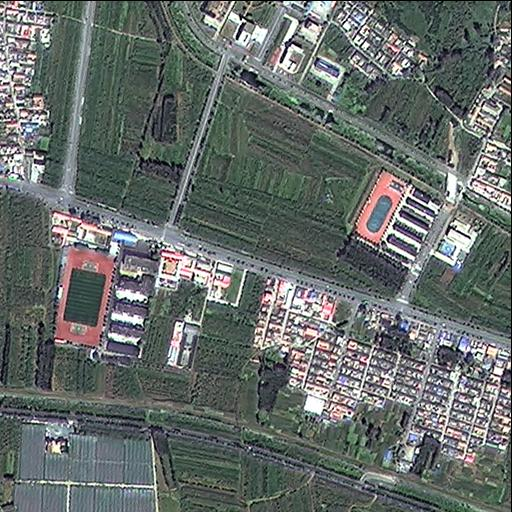school: (51, 238, 160, 365), (350, 163, 446, 265)
